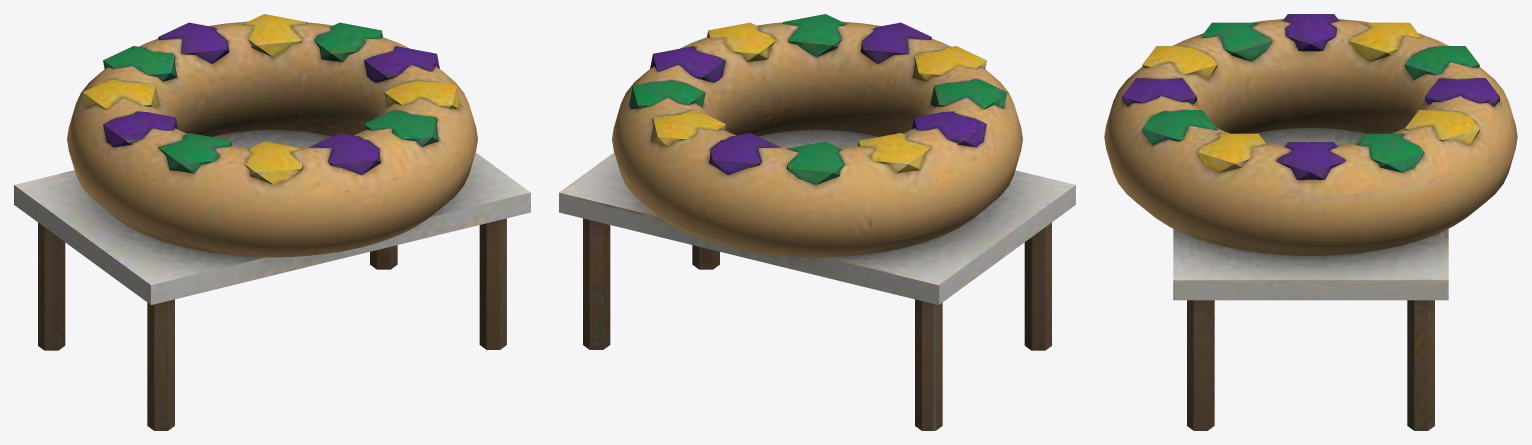
File: rosca_reyes.glb
3 renders of one model, left to right at view 1: azimuth 30°, elevation 25°; view 2: azimuth 150°, elevation 25°; view 3: azimuth 270°, elevation 25°, orthographic.
Visible parts, largest first — view 1: rosca_reyes; view 2: rosca_reyes; view 3: rosca_reyes.
Part boxes in pixels (left/top/right/bottom): rosca_reyes: left=14, top=14, right=530, bottom=430; rosca_reyes: left=559, top=14, right=1075, bottom=430; rosca_reyes: left=1104, top=14, right=1517, bottom=430.
Size of the model in its own units: 1.6 by 1.05 by 1.5.
Materials: 1 (1 with a texture image).
